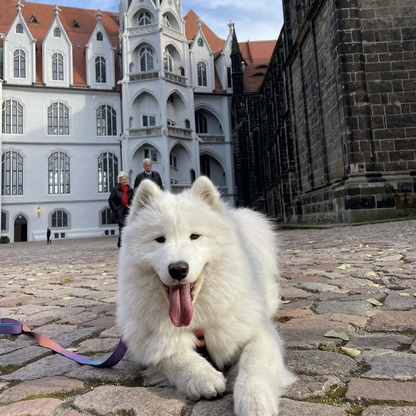samoyed: (112, 173, 307, 416)
